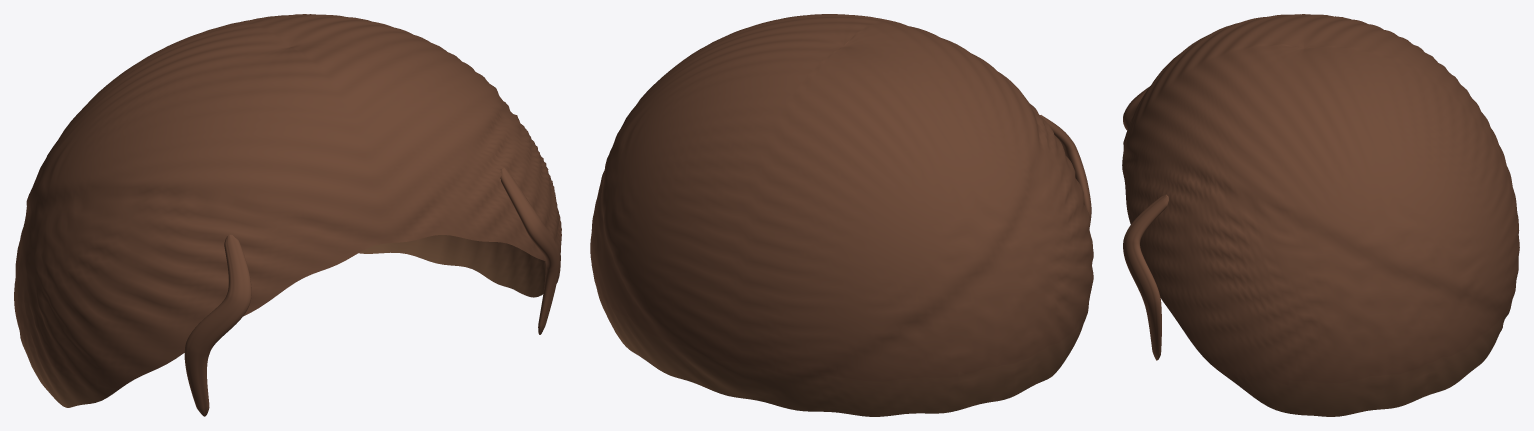
File: Ombre-d12db29197b1253-hair.glb
The picture shows the model from 3 angles, left to right: view 1: azimuth 30°, elevation 25°; view 2: azimuth 150°, elevation 25°; view 3: azimuth 270°, elevation 25°; orthographic projection. The views are drawn at different scales.
Visible parts, largest first — view 1: 226 hair / Hair / chestnut226.001; view 2: 226 hair / Hair / chestnut226.001; view 3: 226 hair / Hair / chestnut226.001.
Boxes of the visible parts, x1,y1,x2,y2 form: 226 hair / Hair / chestnut226.001: (14,14,561,416); 226 hair / Hair / chestnut226.001: (590,14,1093,416); 226 hair / Hair / chestnut226.001: (1122,14,1519,416).
Size of the model in its own units: 0.9981 by 0.5988 by 0.7846.
1 material, 1 textured.
